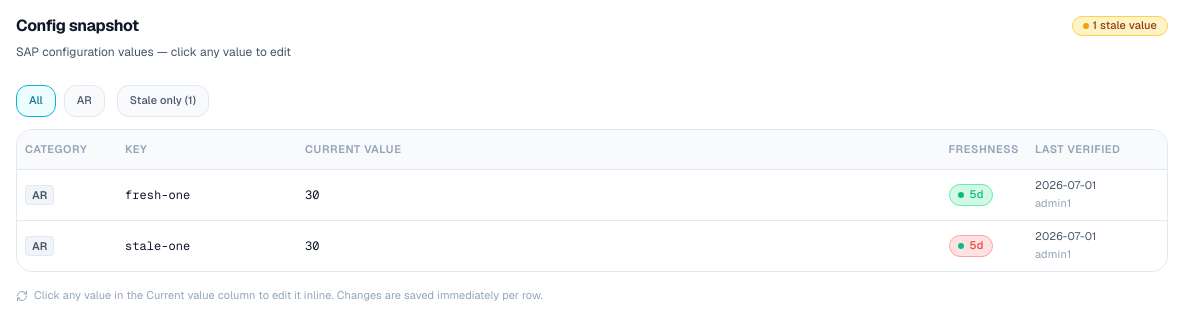
Test: AdminConfigSnapshotPage › filters to stale-only entries via the Stale only button, using the real staleness field
Click the button "Stale only (1)": (163, 101) [117,85,209,117]
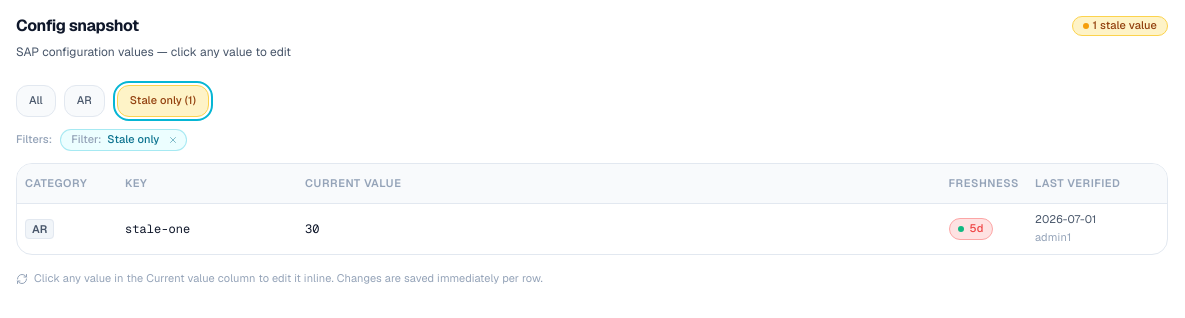
Expected: the text "stale-one" is shown, [125,221,190,237]
Expected: the text "fresh-one" is gone
